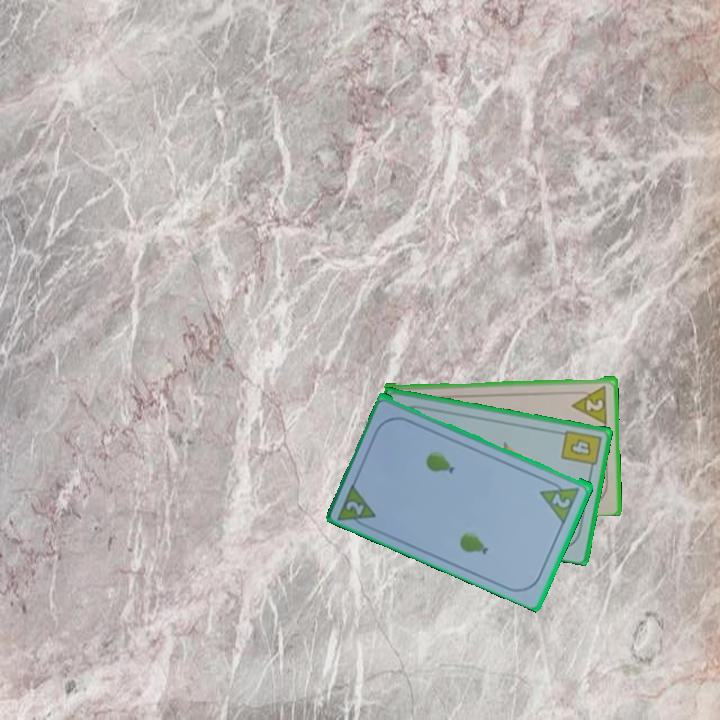2p: (334, 478, 380, 532), (569, 382, 610, 425), (549, 490, 574, 511)
4b: (558, 426, 604, 474)
